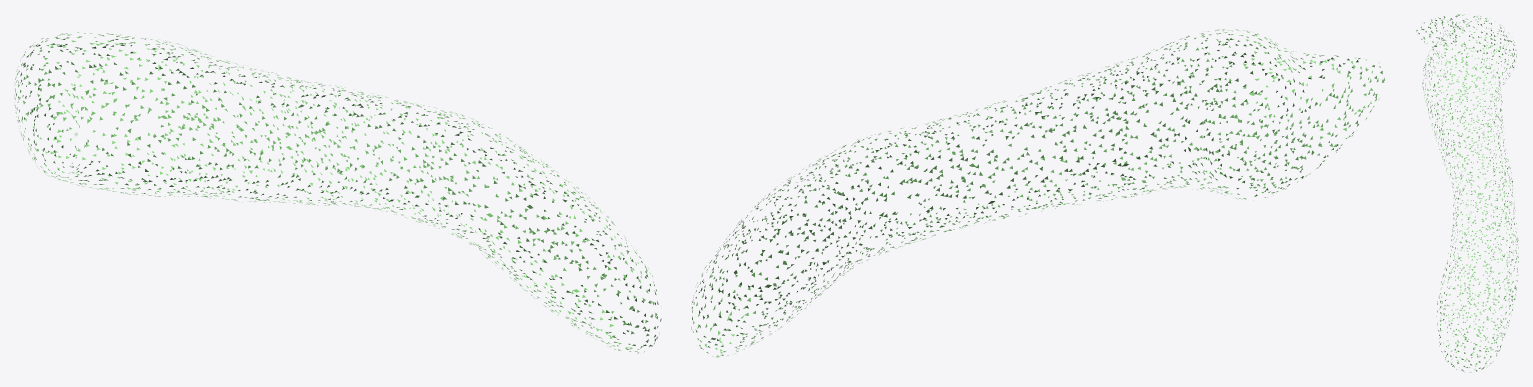
The model's file is morph_016.glb.
3 views of the same model, side by side, from view 1: azimuth 30°, elevation 25°; view 2: azimuth 150°, elevation 25°; view 3: azimuth 270°, elevation 25° (orthographic). The views are drawn at different scales.
Size of the model in its own units: 121 by 79.98 by 34.01.
